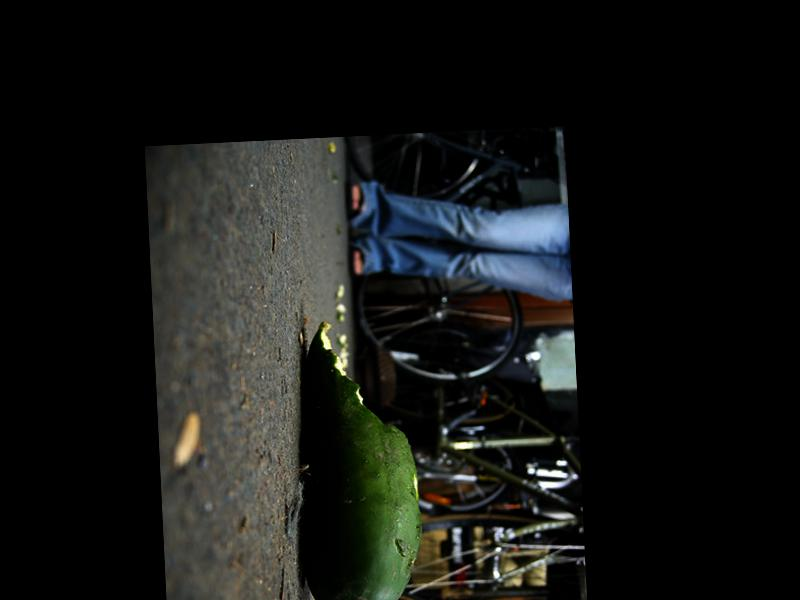Cucumber: (294, 313, 424, 600)
